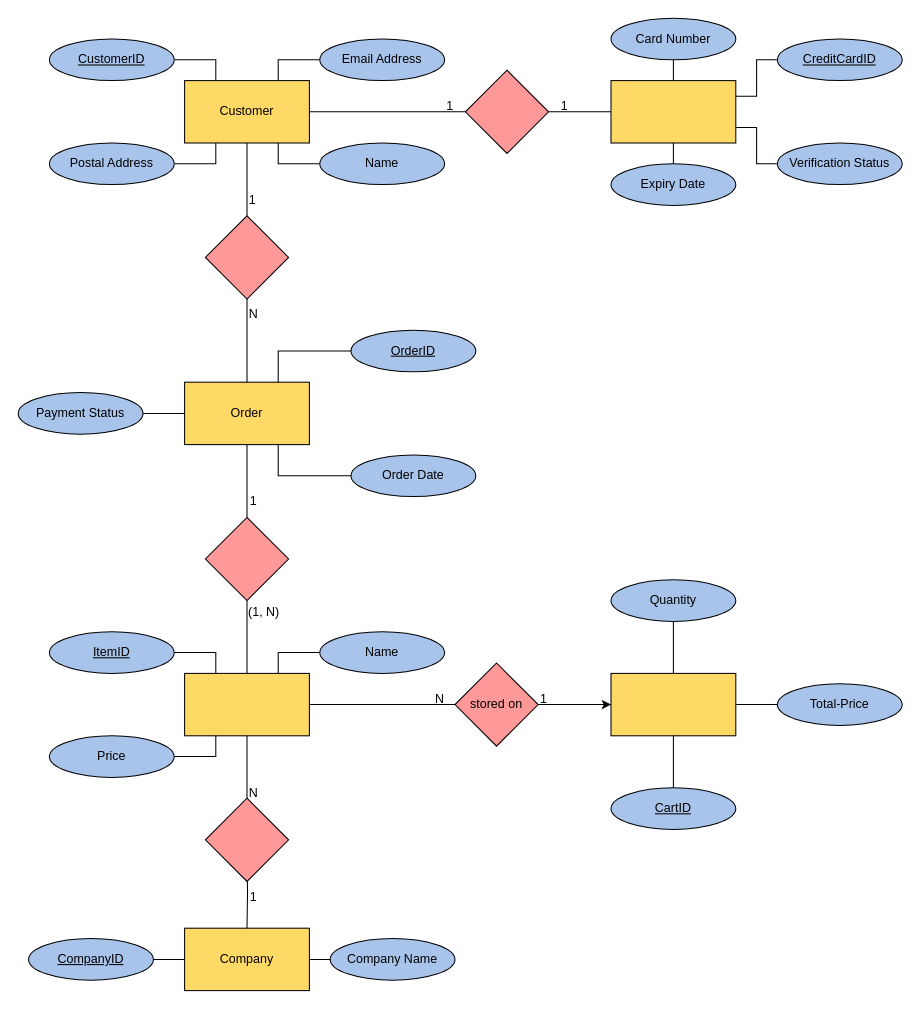
The diagram is 920 pixels wide and 1009 high, and some of its shapes have lost their labels. The box of each missing label's shape, as (x1, y1, x2, y2) in pixels:
Credit Card: (610, 80, 736, 143)
has: (204, 516, 289, 601)
Item: (184, 672, 309, 736)
pay via: (464, 69, 549, 153)
place: (204, 215, 289, 299)
produced by: (204, 797, 289, 881)
Shopping Cart: (610, 672, 736, 736)
